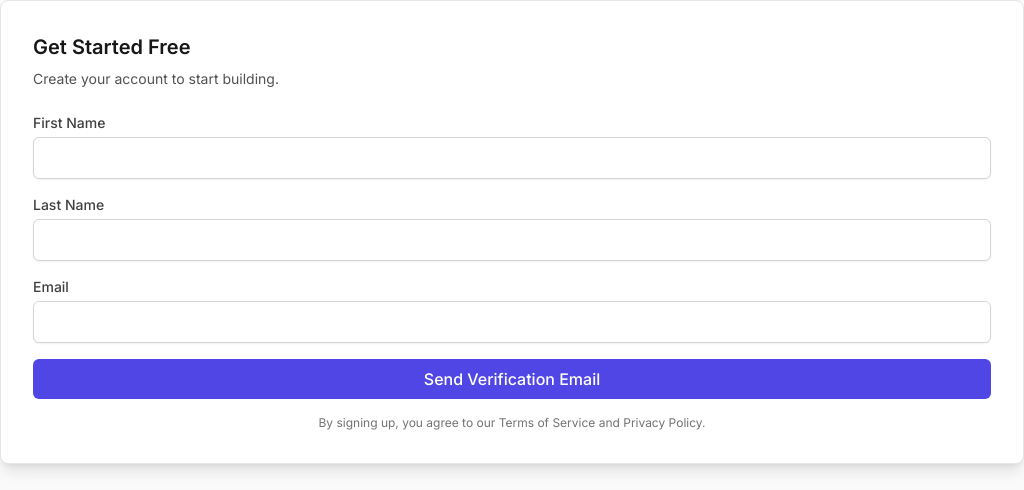
Test: RegistrationFormEmbed › Success State › shows success message after successful registration
In the field labelled "First Name": (512, 158) top-left (33, 137), bottom-right (991, 179), type "John"
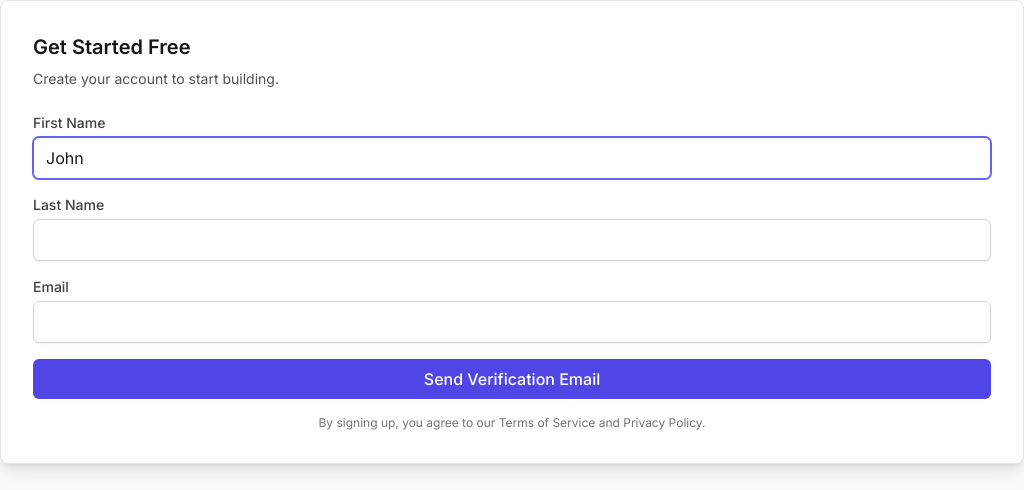
In the field labelled "Last Name": (512, 240) top-left (33, 219), bottom-right (991, 261), type "Doe"
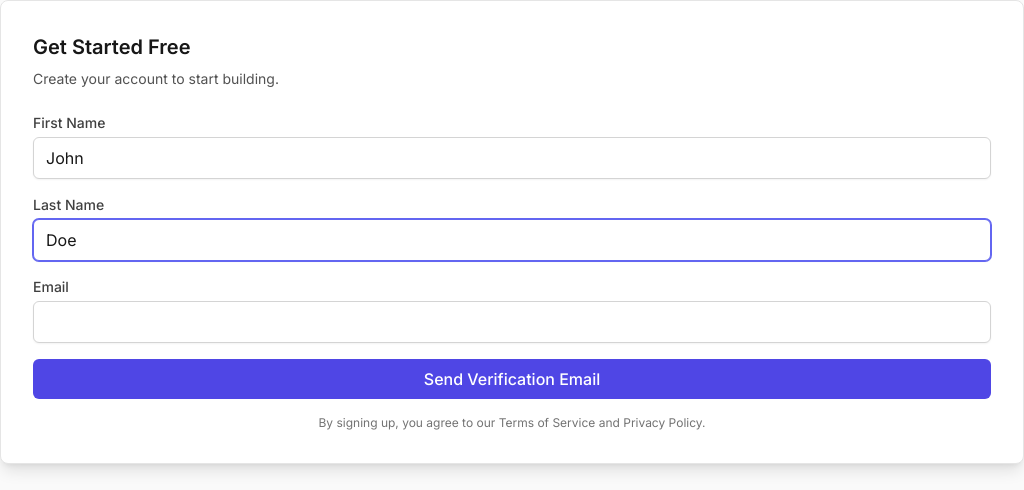
In the field labelled "Email": (512, 322) top-left (33, 301), bottom-right (991, 343), type "john@example.com"
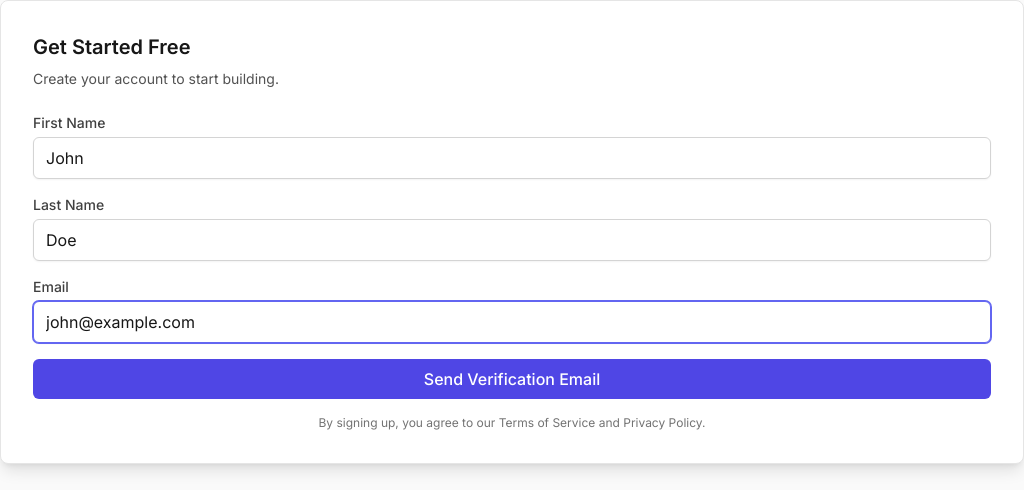
Click the button "Send Verification Email": click(512, 379) top-left (33, 359), bottom-right (991, 399)
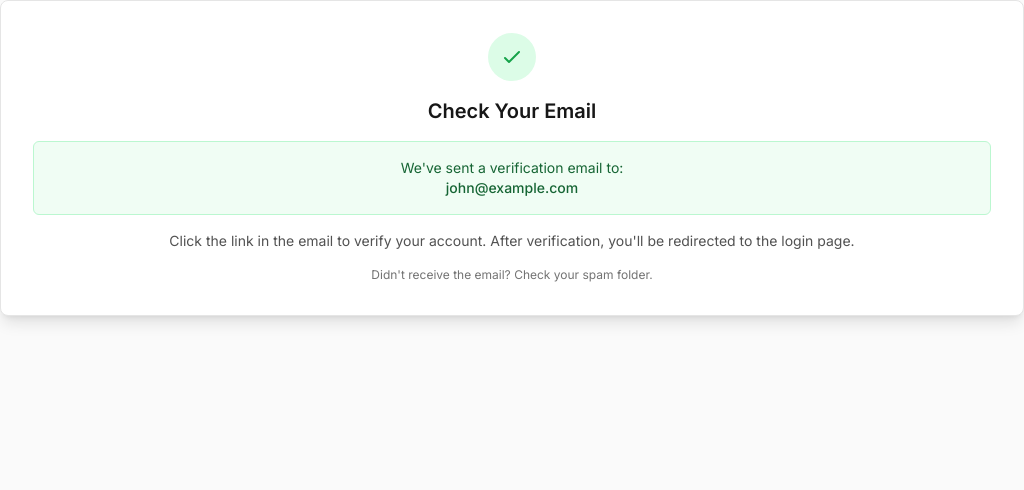
expect the heading "Check Your Email" is shown: met, box top-left (428, 99), bottom-right (596, 123)
expect the text "john@example.com" is shown: met, box top-left (446, 179), bottom-right (578, 196)
